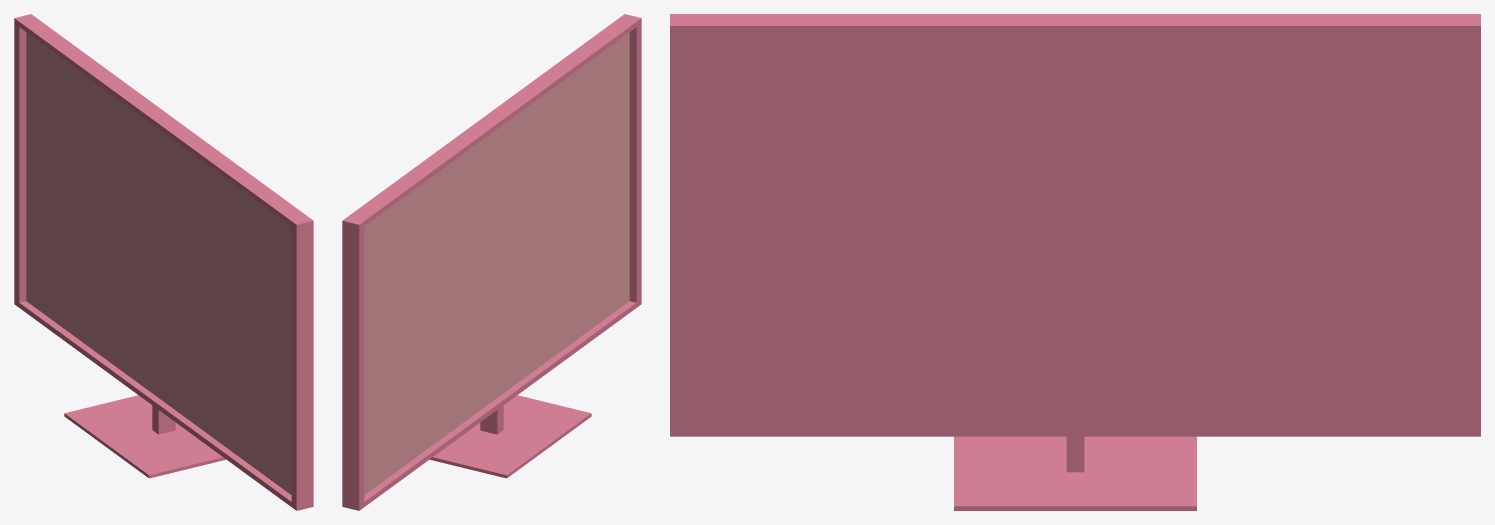
File: Flatscreen tv.fbx
The picture shows the model from 3 angles, left to right: view 1: azimuth 30°, elevation 25°; view 2: azimuth 150°, elevation 25°; view 3: azimuth 270°, elevation 25°; orthographic projection. The views are drawn at different scales.
Parts seen in each view (by area): view 1: Cube.002; view 2: Cube.002; view 3: Cube.002.
Boxes of the visible parts, x1,y1,x2,y2 form: Cube.002: (14,14,313,510); Cube.002: (342,14,641,510); Cube.002: (670,14,1480,510).
Size of the model in its own units: 30.43 by 79.84 by 130.
